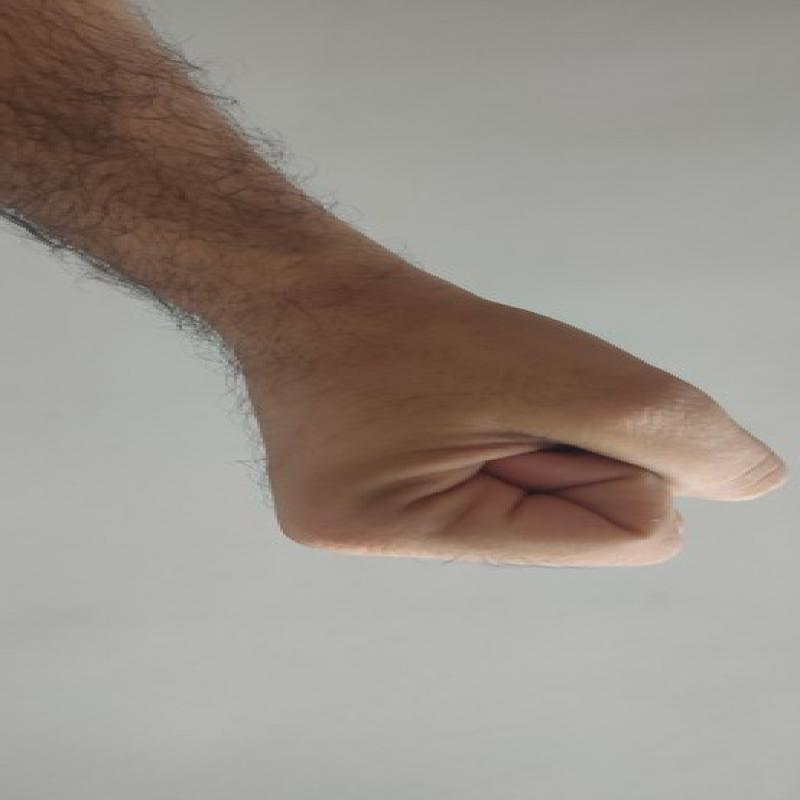Mushti: (236, 264, 786, 578)
